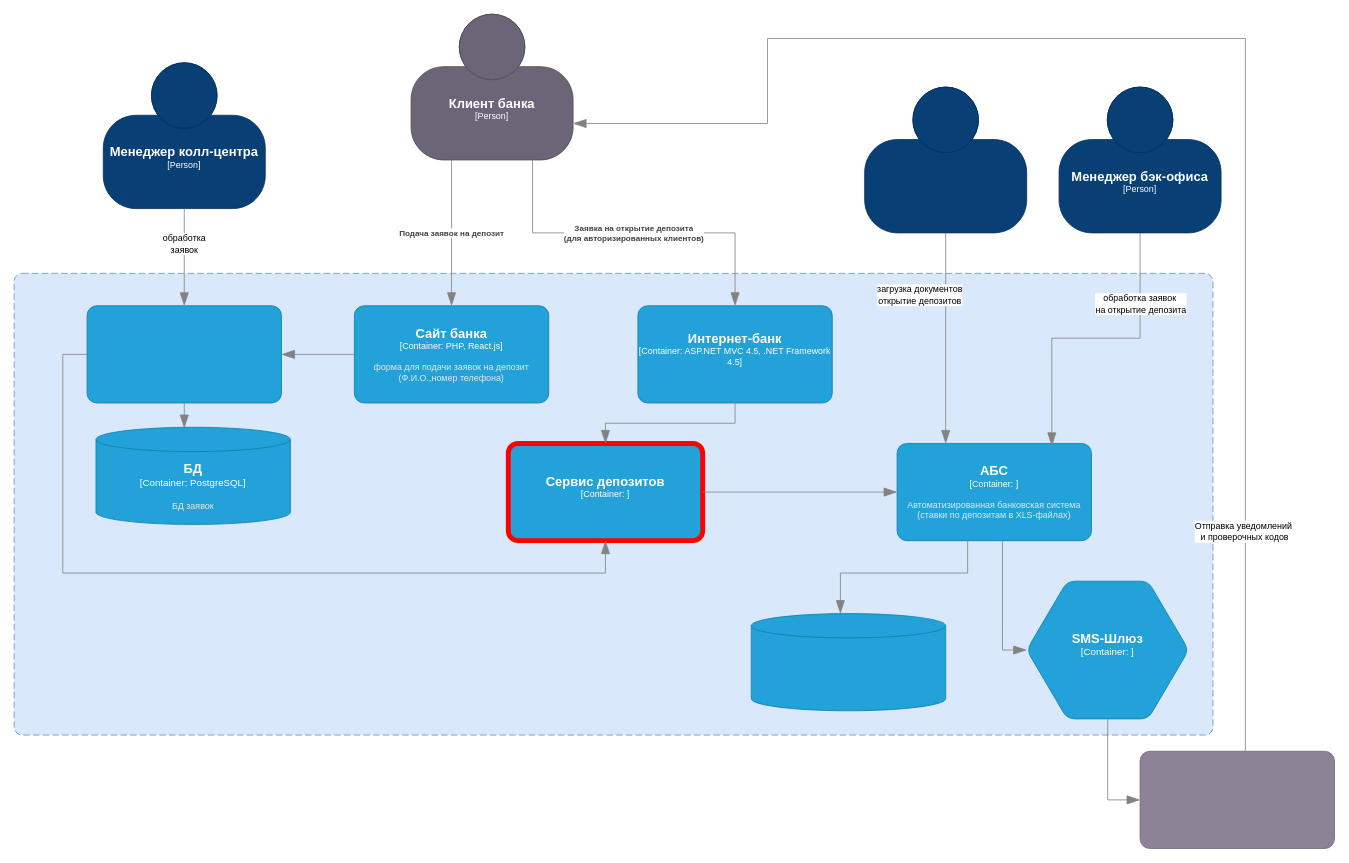
Image size: 1349x863. Some labels were removed from this diagram. The box of each missing label's shape, as (x1, y1, x2, y2) in pixels:
База Данных АБС [Container: MS SQL] БД договоров, бухгалтерии, операций, ...: (750, 613, 946, 711)
Менеджер отделения банка [Person]: (864, 86, 1027, 233)
Оператор связи [External System] Рассылка SMS: (1139, 750, 1334, 848)
Система Банка "Стандарт" [Software System]: (13, 273, 1213, 735)
Система колл-центра [Container: React.js, Java Spring Boot]: (86, 305, 281, 403)
